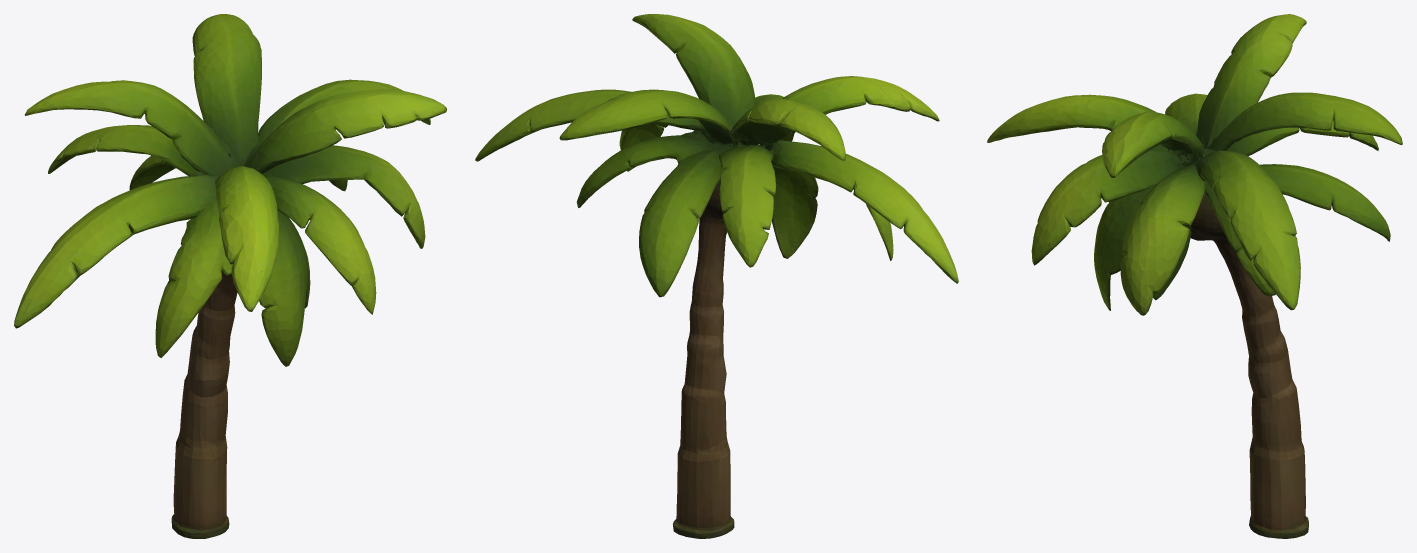
The model's file is palm-tree-2.glb.
3 views of the same model, side by side, from view 1: azimuth 30°, elevation 25°; view 2: azimuth 150°, elevation 25°; view 3: azimuth 270°, elevation 25° (orthographic). The views are drawn at different scales.
Visible parts, largest first — view 1: world; view 2: world; view 3: world.
Boxes of the visible parts, x1,y1,x2,y2 form: world: [14, 14, 446, 538]; world: [475, 14, 958, 538]; world: [987, 14, 1402, 538].
Size of the model in its own units: 0.9956 by 0.9593 by 0.7947.
Materials: 1 (1 with a texture image).
